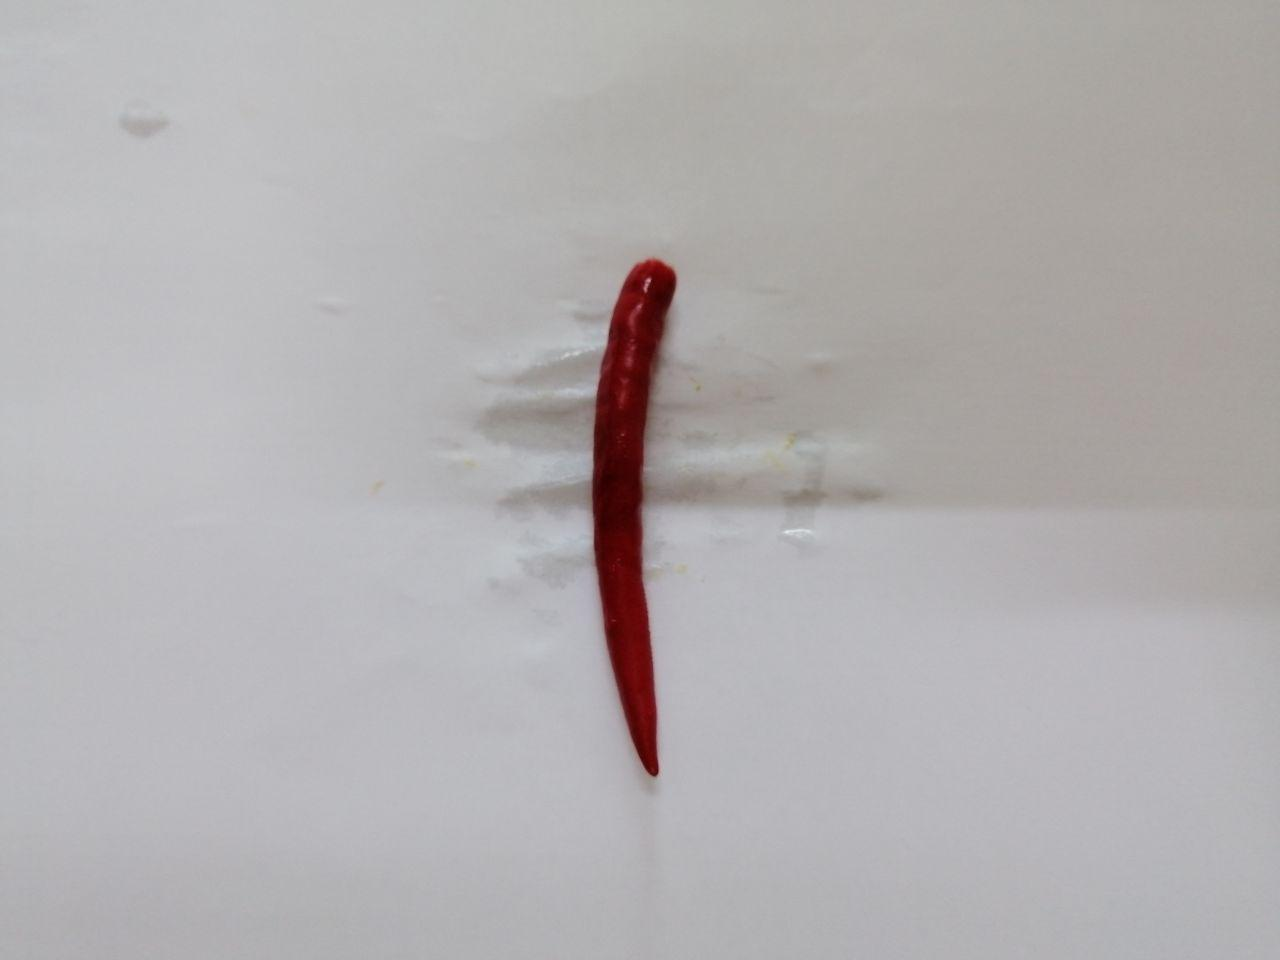lada merah: (556, 237, 716, 812)
